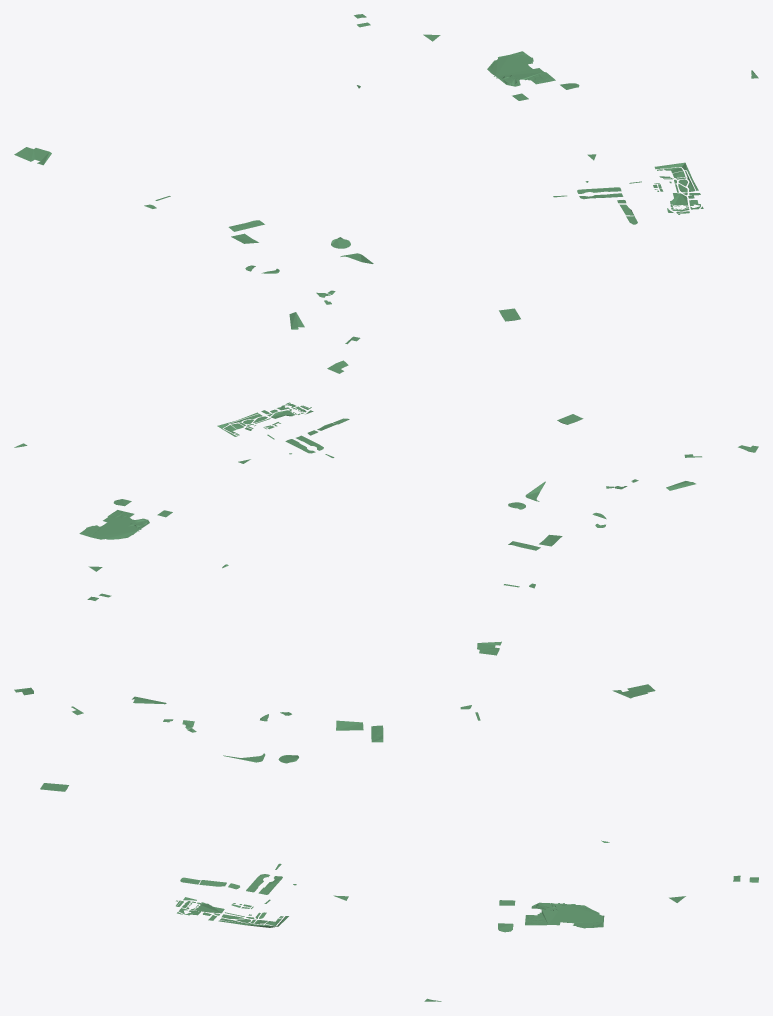
Rendered from green.glb.
The picture shows the model from 3 angles, top to bottom: view 1: azimuth 30°, elevation 25°; view 2: azimuth 150°, elevation 25°; view 3: azimuth 270°, elevation 25°; orthographic projection. The views are drawn at different scales.
Visible parts, largest first — view 1: green; view 2: green; view 3: green.
Boxes of the visible parts, x1=… form: green: x1=14, y1=14, x2=758, y2=373; green: x1=14, y1=402, x2=758, y2=655; green: x1=14, y1=684, x2=758, y2=1001.
Bounding box in the file's own units: 2442 × 24.75 × 2403.
